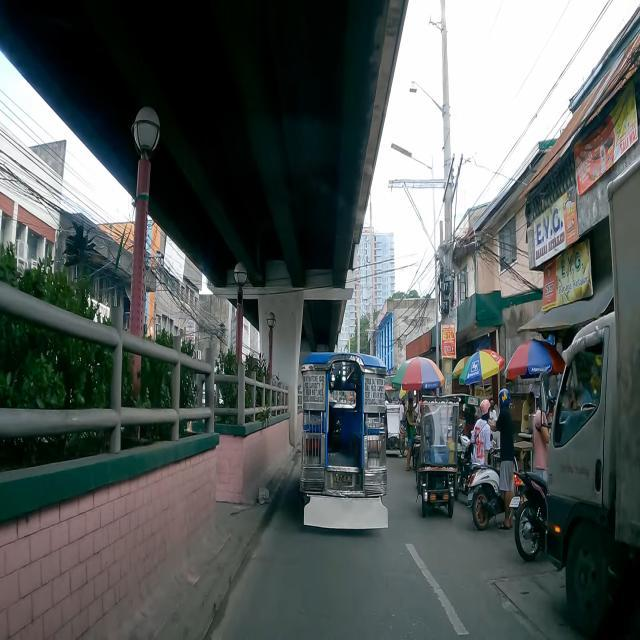bike: (300, 353, 388, 529)
motorcycle: (510, 472, 548, 560), (468, 464, 504, 530)
tricycle: (416, 397, 458, 517), (386, 399, 406, 456)
truck: (546, 158, 640, 636)
